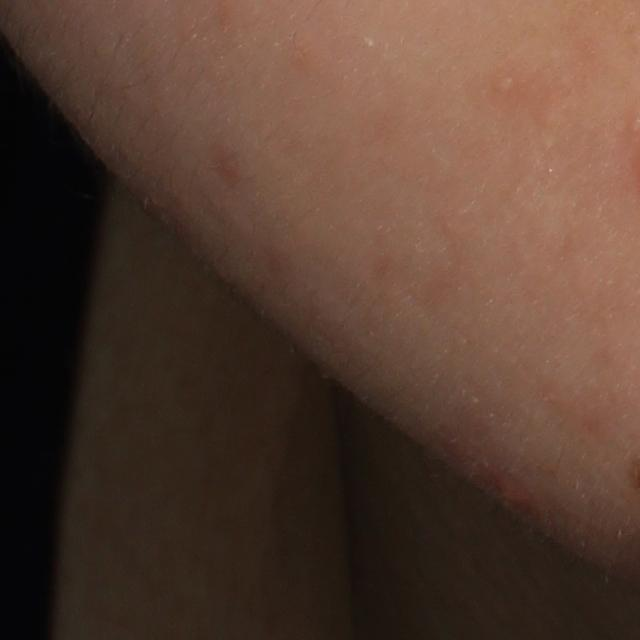papule: (494, 475, 532, 507)
